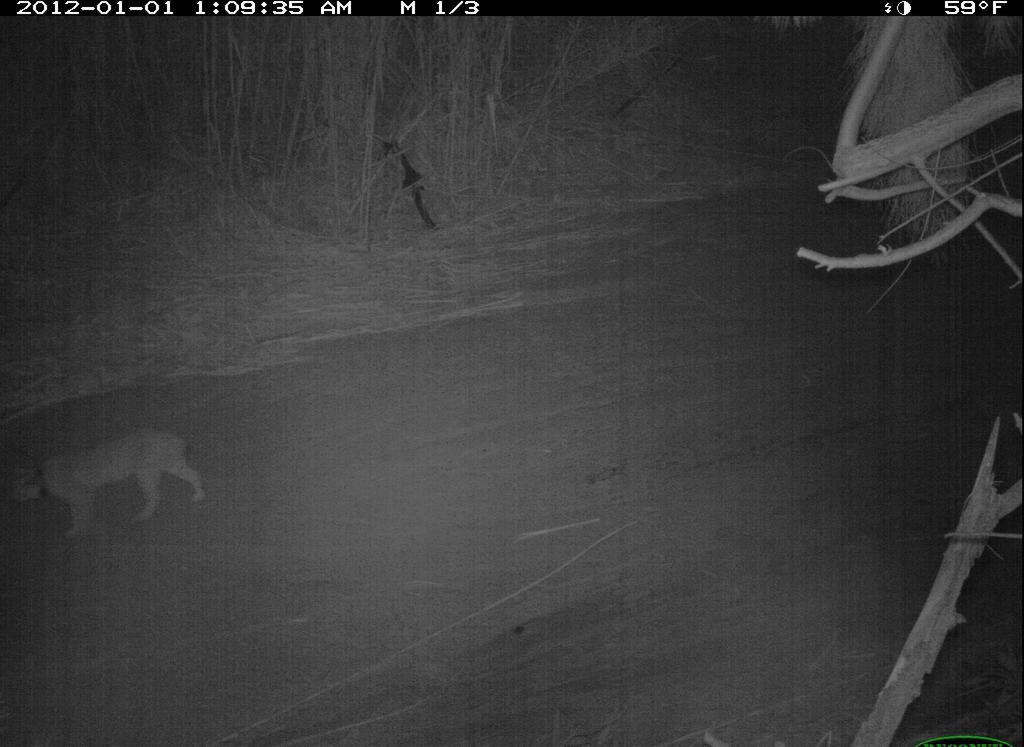bobcat: (4, 425, 222, 553)
